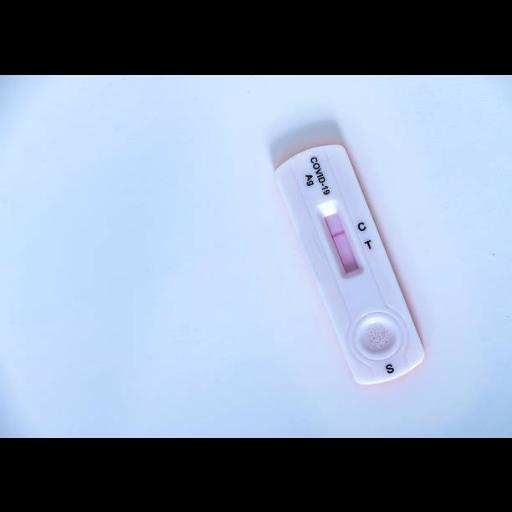Neg: (273, 138, 431, 391)
